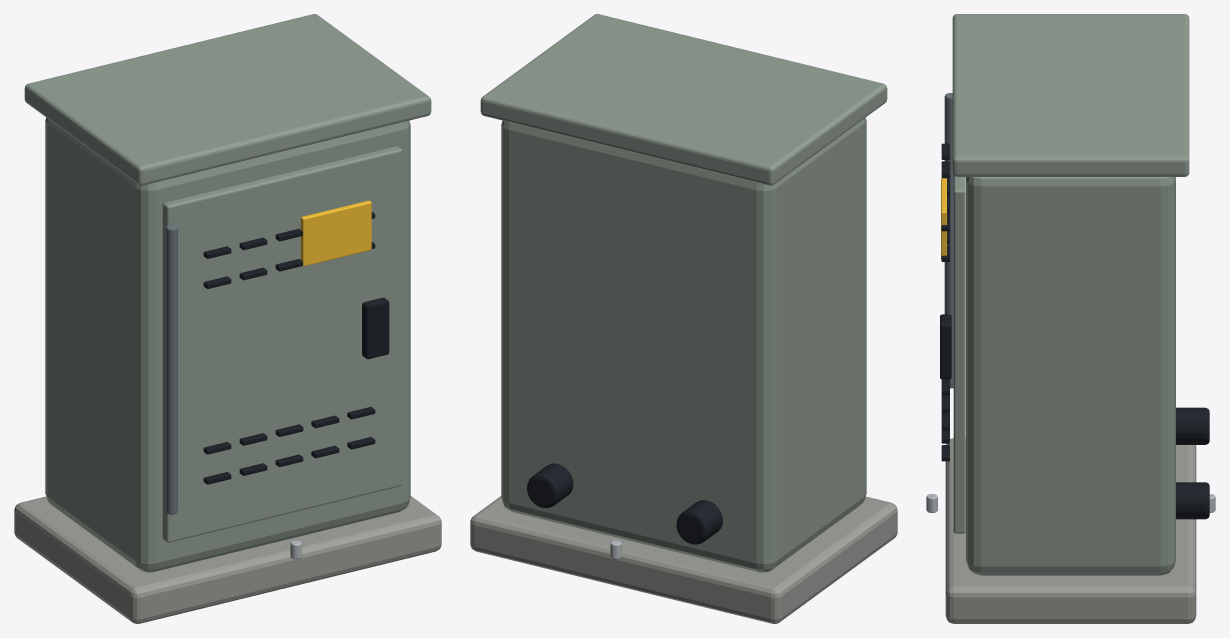
Rendered from prop_starter_utility_box_a_v01.glb.
The picture shows the model from 3 angles, left to right: view 1: azimuth 30°, elevation 25°; view 2: azimuth 150°, elevation 25°; view 3: azimuth 270°, elevation 25°; orthographic projection.
Visible parts, largest first — view 1: component__service_door__service_door, component__cabinet_body__cabinet_body, component__drip_edge__roof_drip_edge, component__concrete_pad__concrete_pad, component__warning_placard__warning_placard, component__hinge__piano_hinge, component__recessed_latch__recessed_latch; view 2: component__cabinet_body__cabinet_body, component__drip_edge__roof_drip_edge, component__concrete_pad__concrete_pad, component__conduit_entries__rear_conduit_entry.001, component__conduit_entries__rear_conduit_entry; view 3: component__cabinet_body__cabinet_body, component__drip_edge__roof_drip_edge, component__concrete_pad__concrete_pad, component__service_door__service_door, component__hinge__piano_hinge, component__conduit_entries__rear_conduit_entry.001, component__conduit_entries__rear_conduit_entry, component__recessed_latch__recessed_latch, component__warning_placard__warning_placard.
Part boxes in pixels (bbox=[...]): component__service_door__service_door: bbox=[162, 146, 402, 542]; component__cabinet_body__cabinet_body: bbox=[45, 117, 410, 572]; component__drip_edge__roof_drip_edge: bbox=[24, 14, 431, 185]; component__concrete_pad__concrete_pad: bbox=[14, 496, 441, 623]; component__warning_placard__warning_placard: bbox=[300, 200, 371, 266]; component__hinge__piano_hinge: bbox=[166, 225, 177, 514]; component__recessed_latch__recessed_latch: bbox=[362, 297, 389, 359]; component__cabinet_body__cabinet_body: bbox=[501, 117, 866, 572]; component__drip_edge__roof_drip_edge: bbox=[480, 14, 887, 185]; component__concrete_pad__concrete_pad: bbox=[470, 496, 897, 623]; component__conduit_entries__rear_conduit_entry.001: bbox=[676, 500, 722, 544]; component__conduit_entries__rear_conduit_entry: bbox=[527, 463, 573, 507]; component__cabinet_body__cabinet_body: bbox=[966, 177, 1175, 575]; component__drip_edge__roof_drip_edge: bbox=[952, 14, 1189, 176]; component__concrete_pad__concrete_pad: bbox=[945, 438, 1196, 623]; component__service_door__service_door: bbox=[953, 175, 965, 533]; component__hinge__piano_hinge: bbox=[944, 93, 953, 388]; component__conduit_entries__rear_conduit_entry.001: bbox=[1176, 407, 1209, 444]; component__conduit_entries__rear_conduit_entry: bbox=[1176, 482, 1209, 519]; component__recessed_latch__recessed_latch: bbox=[940, 314, 951, 379]; component__warning_placard__warning_placard: bbox=[941, 178, 946, 260].
Bounding box in the file's own units: 1.08 × 1.51 × 0.8547.
